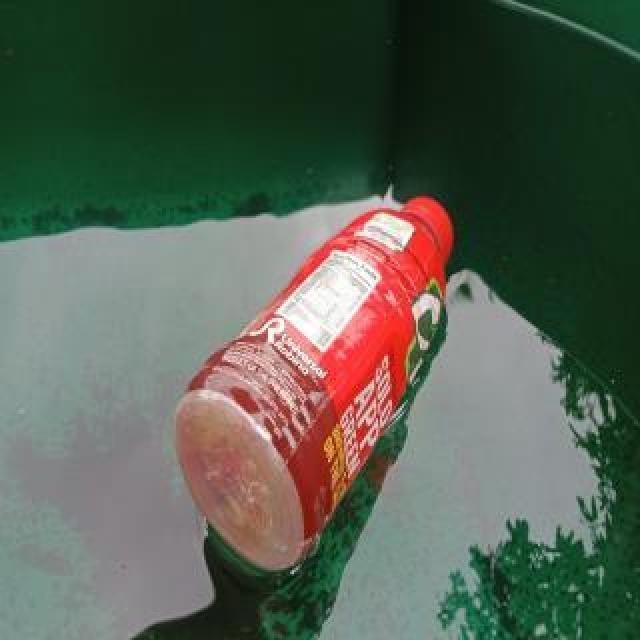bottle: (166, 184, 456, 572)
